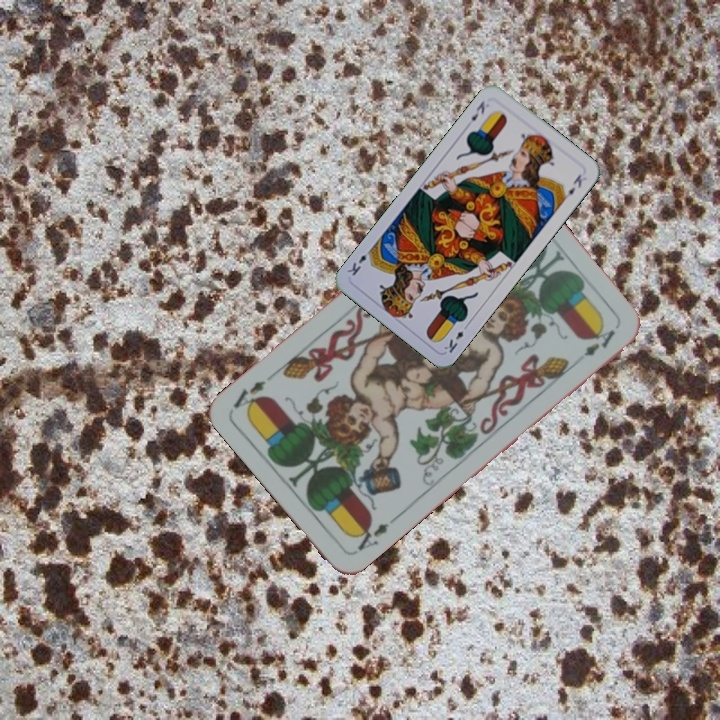EA: (349, 516, 392, 554)
EK: (440, 319, 472, 355), (467, 97, 488, 123)
